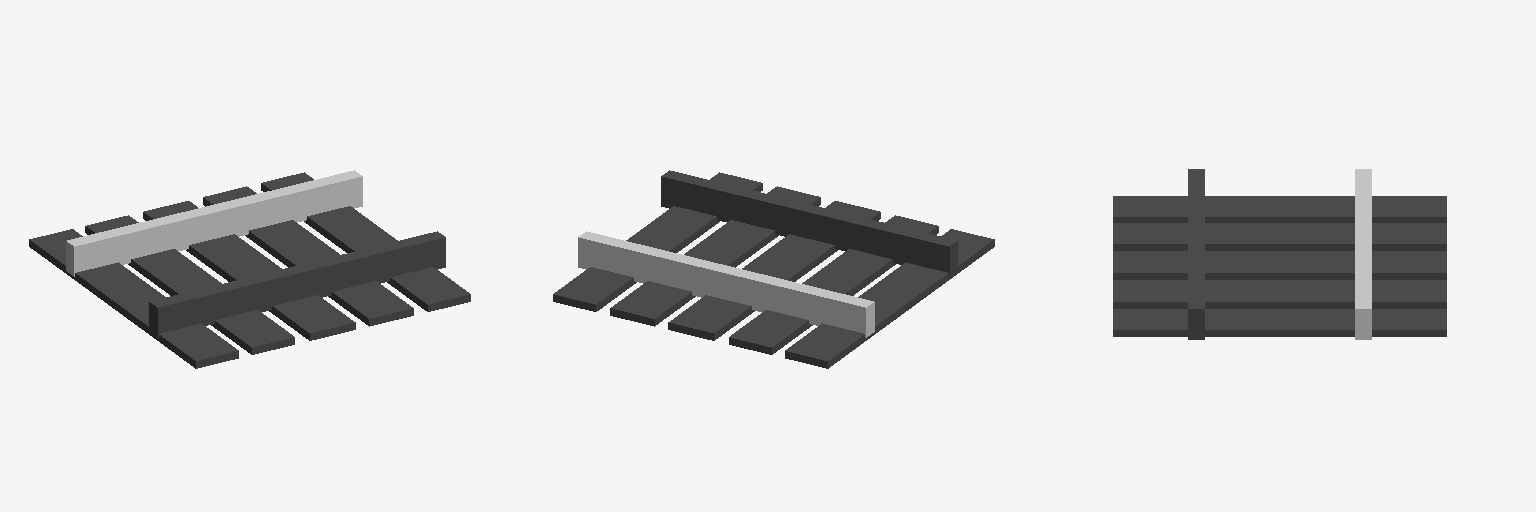
3 views of the same model, side by side, from view 1: azimuth 30°, elevation 25°; view 2: azimuth 150°, elevation 25°; view 3: azimuth 270°, elevation 25° (orthographic).
Visible parts, largest first — view 1: group5_pasted__pCube2; view 2: group5_pasted__pCube2; view 3: group5_pasted__pCube2.
Part boxes in pixels (x1,y1,x2,y2): group5_pasted__pCube2: (29,170,470,368); group5_pasted__pCube2: (553,170,994,368); group5_pasted__pCube2: (1113,169,1446,339).
Size of the model in its own units: 2 by 0.2251 by 2.
Materials: 1 (1 with a texture image).